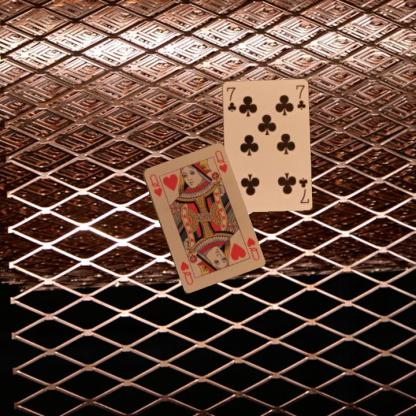7c: (296, 175, 310, 204), (224, 84, 237, 113)
Qh: (146, 171, 164, 198), (244, 234, 260, 262)
